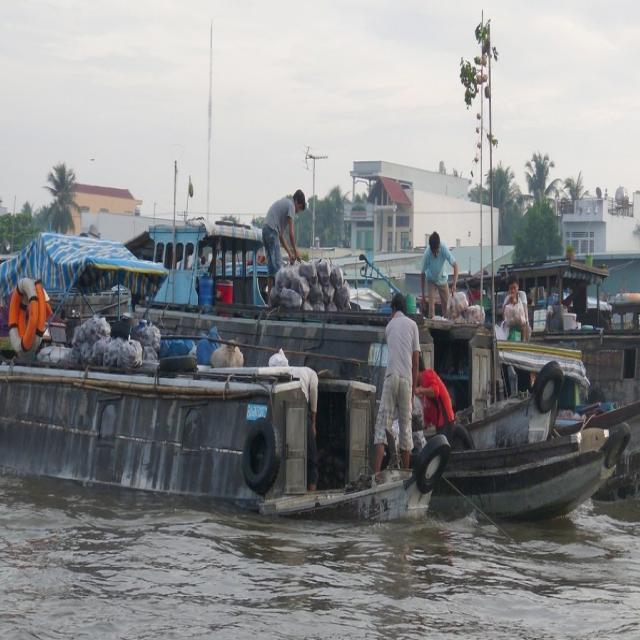boat: (0, 334, 412, 519)
